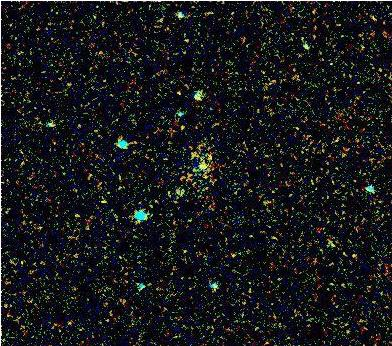star: (186, 150, 216, 180)
